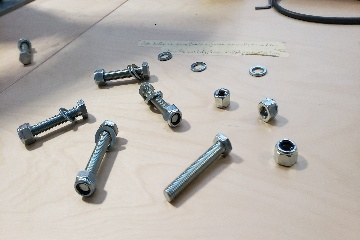Bolt: (162, 130, 233, 204)
FalseAssembly: (70, 120, 123, 199), (17, 97, 87, 144), (17, 34, 36, 71)
FinishedAssembly: (136, 82, 184, 129), (94, 59, 152, 88)
Nut: (272, 138, 301, 170), (258, 97, 279, 123), (213, 88, 232, 109)
Washer: (247, 63, 271, 80), (190, 62, 208, 72), (156, 52, 172, 61)
